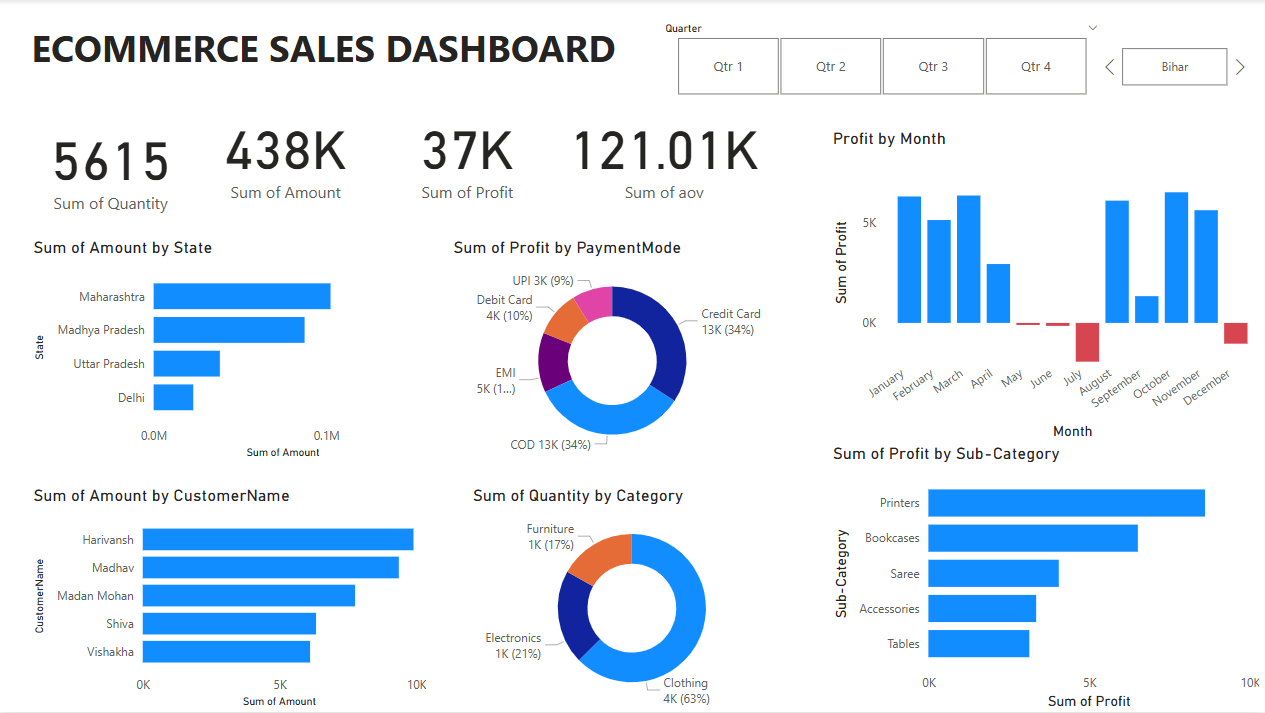

Layout of this report page (visuals, bound fields, positions):
{"tool":"powerbi","page":{"name":"Page 1","canvas":[1280,720],"ordinal":0},"visuals":[{"type":"textbox","box":[9.1,18.2,652.6,65.1],"z":0},{"type":"columnChart","title":"Profit by Month","fields":{"Category":["Orders.Order Date.Variation.Date Hierarchy.Month"],"Y":["Details.Profit"]},"box":[838.5,130.4,440.5,318.4],"z":1000},{"type":"clusteredBarChart","fields":{"Category":["Details.Sub-Category"],"Y":["Details.Profit"]},"box":[838.5,448.8,440.5,273.1],"z":2000},{"type":"donutChart","fields":{"Y":["Details.Quantity"],"Category":["Details.Category"]},"box":[475.5,490.6,330.1,228.6],"z":3000},{"type":"card","fields":{"Values":["Details.Amount"]},"box":[195.3,93,191.5,126.5],"z":4000},{"type":"card","fields":{"Values":["Details.Quantity"]},"box":[0,92.4,207.4,127.2],"z":5000},{"type":"card","fields":{"Values":["Details.Profit"]},"box":[386.8,93,176.7,126.5],"z":6000},{"type":"donutChart","fields":{"Category":["Details.PaymentMode"],"Y":["Details.Profit"]},"box":[455.8,240.8,330.1,228.6],"z":7000},{"type":"barChart","fields":{"Y":["Details.Amount"],"Category":["Orders.State"]},"box":[32.1,240,406.3,226.8],"z":8000},{"type":"card","fields":{"Values":["Details.aov"]},"box":[561.8,92.4,222.6,127.2],"z":9000},{"type":"barChart","fields":{"Category":["Orders.CustomerName"],"Y":["Details.Amount"]},"box":[32,491,406,229],"z":10000},{"type":"slicer","fields":{"Values":["Orders.Order Date.Variation.Date Hierarchy.Quarter"]},"box":[661.7,18.2,461.8,84.8],"z":11000},{"type":"card","fields":{"Values":["Details.Quantity"]},"box":[10,102.4,207.4,127.2],"z":12000},{"type":"slicer","fields":{"Values":["Orders.State"]},"box":[1109.9,42.4,156,51.5],"z":12001}]}

Visuals, with their boxes in screenshot pixels (x1, y1, x2, y2), scaled from the page's 1280x720 canvas onto the 1265x713 screenshot:
textbox: {"left": 9, "top": 18, "right": 654, "bottom": 82}
"Profit by Month" columnChart: {"left": 829, "top": 129, "right": 1264, "bottom": 444}
clusteredBarChart - Details.Sub-Category x Details.Profit: {"left": 829, "top": 444, "right": 1264, "bottom": 712}
donutChart - Details.Quantity x Details.Category: {"left": 470, "top": 486, "right": 796, "bottom": 712}
card - Details.Amount: {"left": 193, "top": 92, "right": 382, "bottom": 217}
card - Details.Quantity: {"left": 0, "top": 92, "right": 205, "bottom": 217}
card - Details.Profit: {"left": 382, "top": 92, "right": 557, "bottom": 217}
donutChart - Details.PaymentMode x Details.Profit: {"left": 450, "top": 238, "right": 777, "bottom": 465}
barChart - Details.Amount x Orders.State: {"left": 32, "top": 238, "right": 433, "bottom": 462}
card - Details.aov: {"left": 555, "top": 92, "right": 775, "bottom": 217}
barChart - Orders.CustomerName x Details.Amount: {"left": 32, "top": 486, "right": 433, "bottom": 712}
slicer - Orders.Order Date.Variation.Date Hierarchy.Quarter: {"left": 654, "top": 18, "right": 1110, "bottom": 102}
card - Details.Quantity: {"left": 10, "top": 101, "right": 215, "bottom": 227}
slicer - Orders.State: {"left": 1097, "top": 42, "right": 1251, "bottom": 93}
